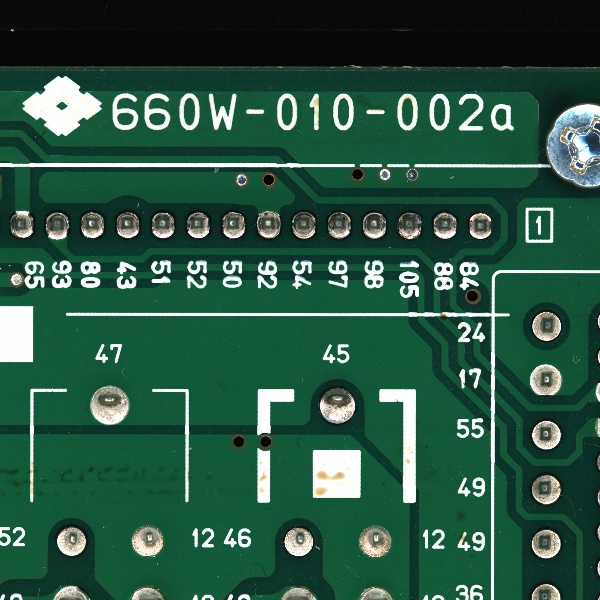Circle: (84, 383, 135, 430), (314, 383, 362, 429), (128, 520, 168, 560), (525, 469, 568, 506), (525, 526, 569, 561), (51, 522, 91, 559), (525, 362, 564, 399), (355, 522, 392, 561), (279, 524, 319, 560), (526, 306, 565, 342), (528, 415, 564, 453), (182, 207, 215, 245), (252, 207, 287, 241), (286, 207, 320, 242), (465, 208, 498, 244), (394, 208, 426, 243), (219, 206, 248, 244), (322, 208, 355, 241), (76, 206, 107, 241), (358, 208, 389, 243), (148, 206, 176, 244), (42, 207, 71, 243), (430, 210, 460, 243), (113, 207, 141, 242), (7, 206, 33, 242)
